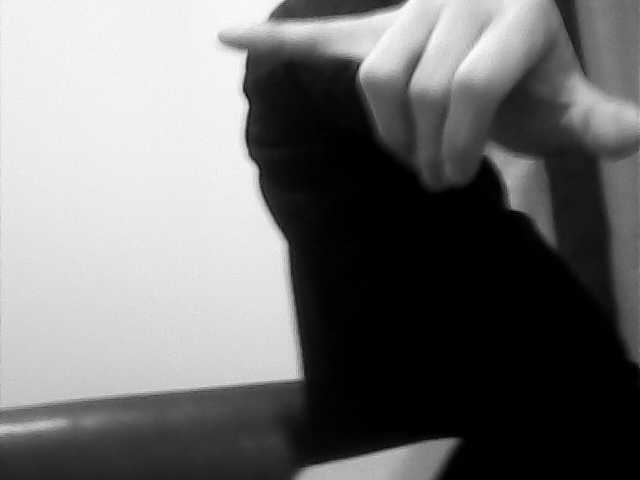aloha: (213, 1, 640, 189)
